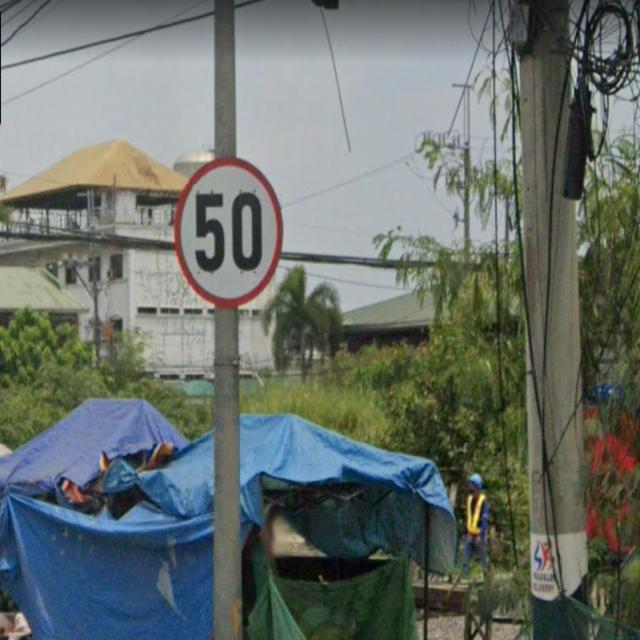50 kph: (174, 157, 282, 308)
